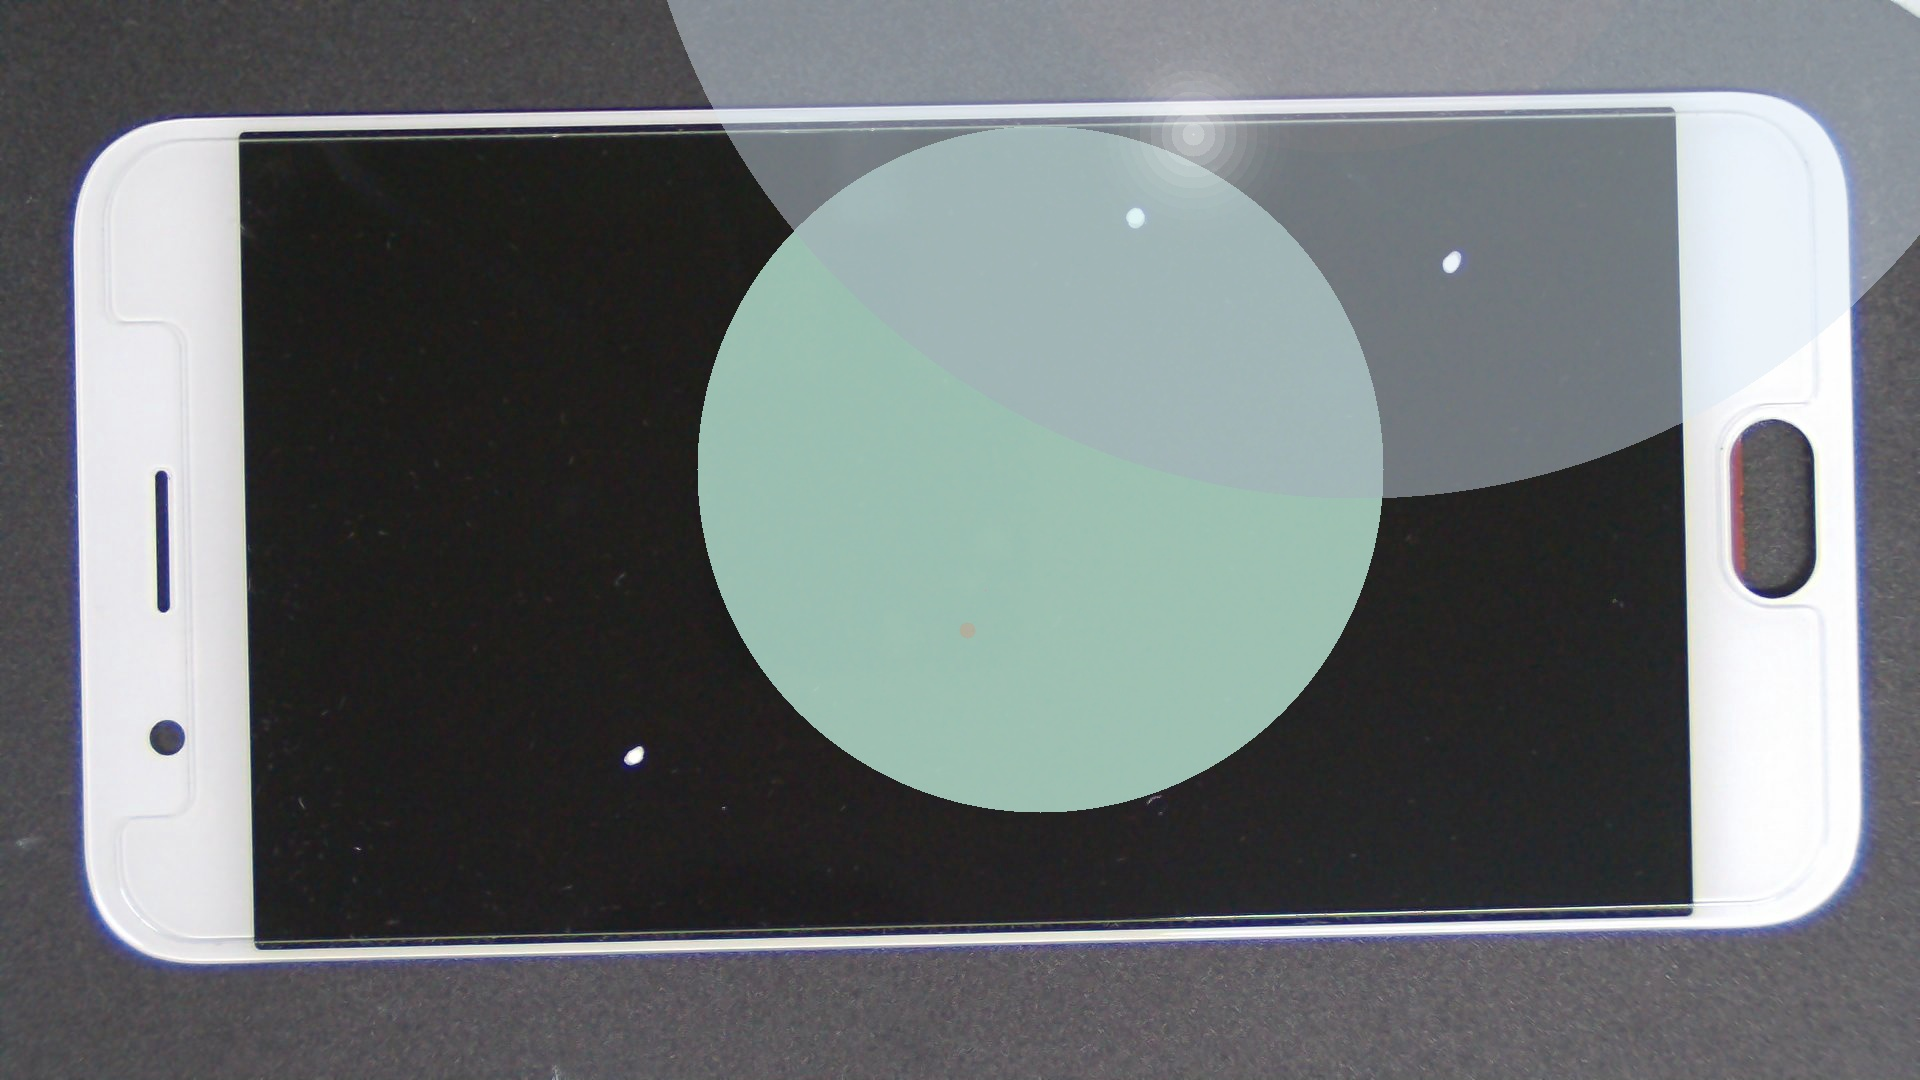oil: (322, 372, 963, 1080), (728, 124, 1920, 375), (567, 103, 1701, 310)
